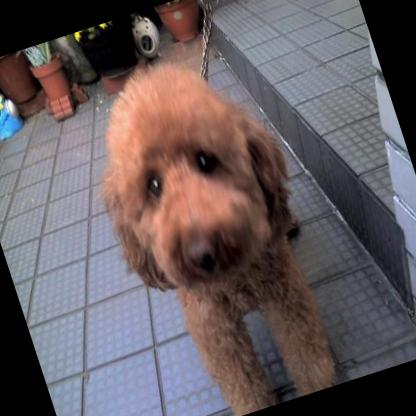miniature_poodle: (57, 31, 358, 416)
